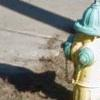Hydrant: (57, 2, 100, 100)
